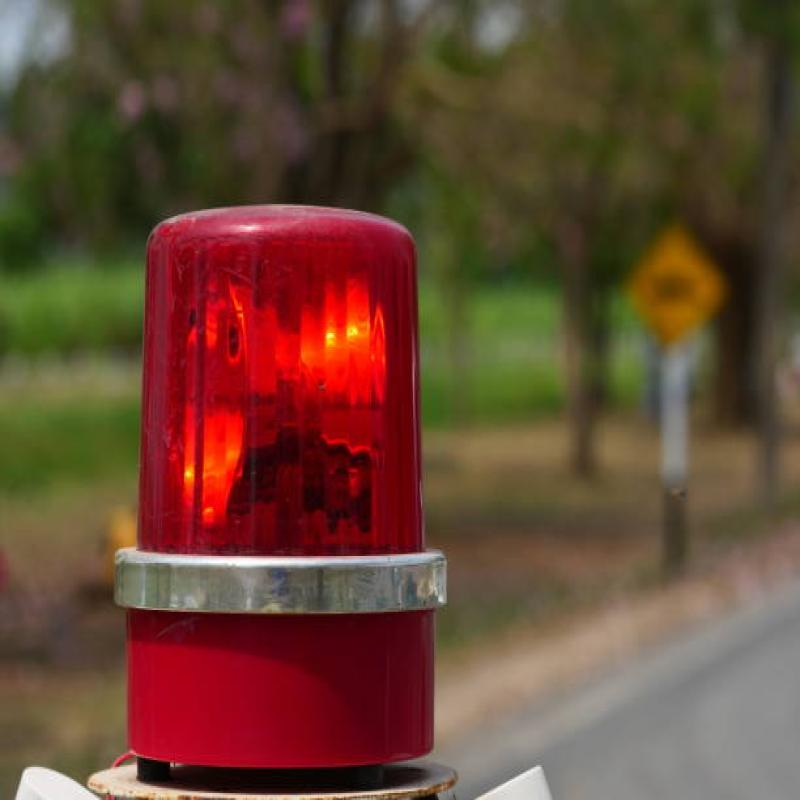AmbulanceSiren: (101, 199, 464, 789)
